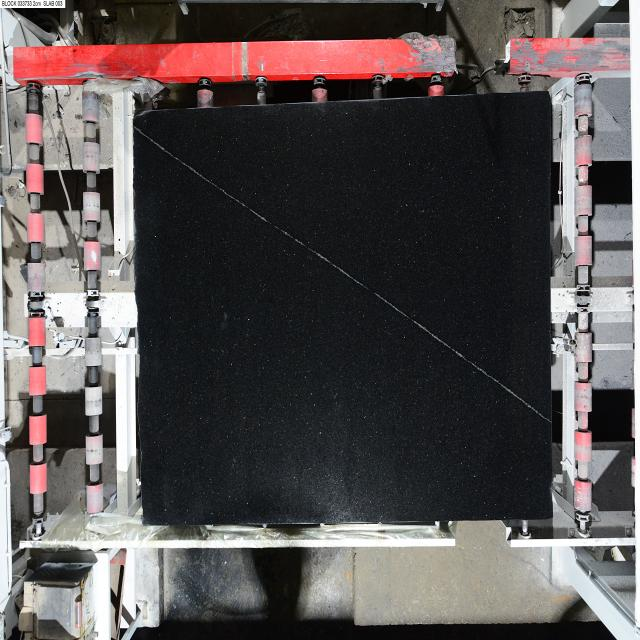chapa: (134, 92, 551, 525)
